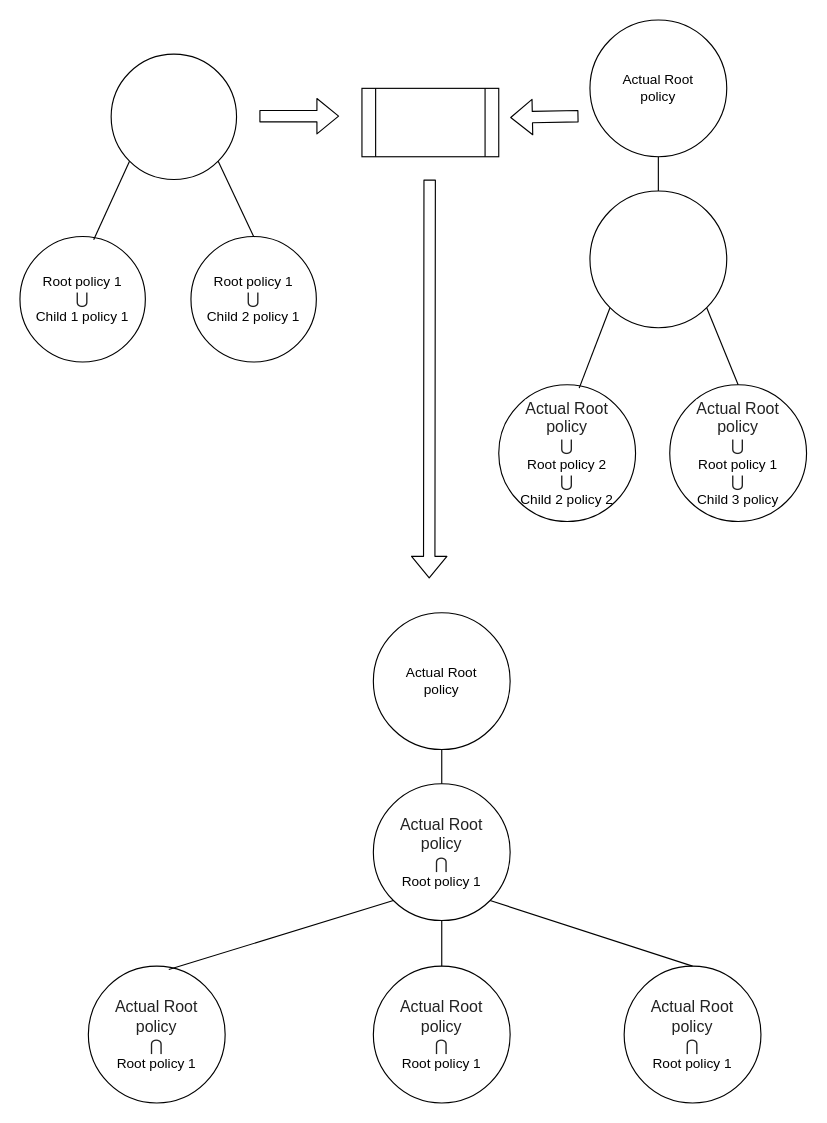
This 827x1123 diagram has some shape labels left out. The centre of each missing label's shape, as x and y in pixels:
"Actual Root policy ⋃ Root policy 2" goes at [658,259].
"Intersection" goes at [430,122].
"Root policy 1" goes at [173,116].
